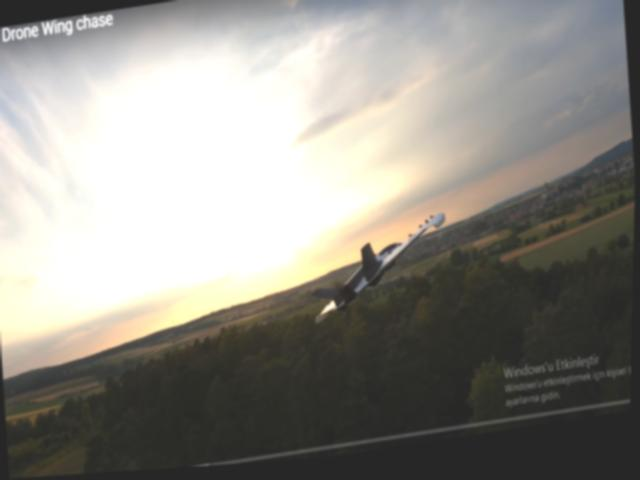plane: (309, 216, 454, 331)
